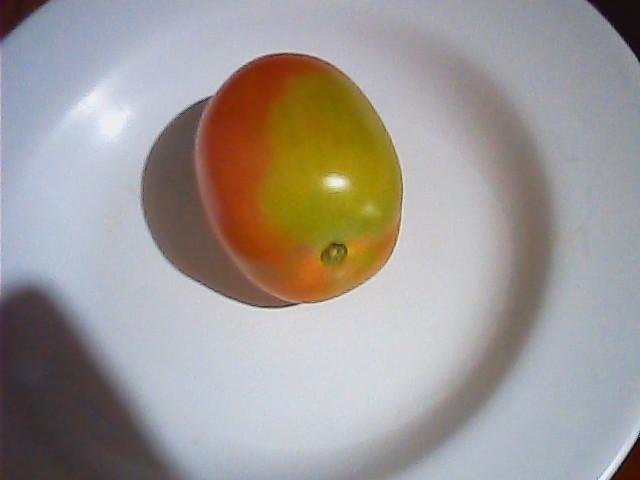verde: (189, 52, 406, 307)
